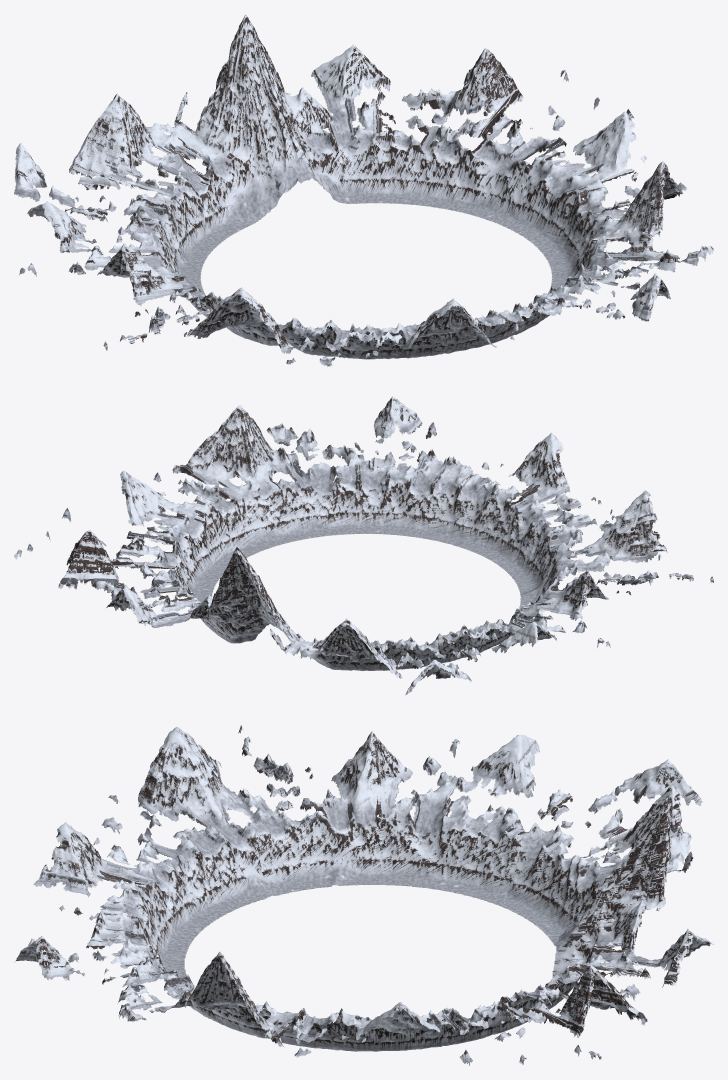
File: backdrop_far_quads_winter.glb
3 renders of one model, top to bottom at view 1: azimuth 30°, elevation 25°; view 2: azimuth 150°, elevation 25°; view 3: azimuth 270°, elevation 25°, orthographic. The views are drawn at different scales.
Visible parts, largest first — view 1: far_N, far_E, far_W, far_S; view 2: far_S, far_E, far_N, far_W; view 3: far_W, far_N, far_S, far_E.
Boxes of the visible parts, bbox=[...] form: far_N: bbox=[15, 14, 468, 258]; far_E: bbox=[420, 48, 713, 293]; far_W: bbox=[14, 164, 325, 363]; far_S: bbox=[287, 250, 698, 366]; far_S: bbox=[290, 396, 657, 582]; far_E: bbox=[14, 405, 325, 602]; far_N: bbox=[59, 546, 451, 695]; far_W: bbox=[410, 490, 713, 682]; far_W: bbox=[115, 724, 651, 907]; far_N: bbox=[505, 759, 713, 1025]; far_S: bbox=[14, 795, 239, 1025]; far_E: bbox=[119, 951, 645, 1065].
Size of the model in its own units: 3332 by 801 by 2984.
Materials: 8 (8 with a texture image).
